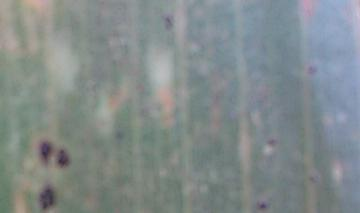tarspot: (57, 146, 71, 169), (41, 140, 53, 166), (40, 188, 53, 208), (163, 12, 174, 32), (114, 128, 125, 142), (307, 64, 317, 78), (267, 137, 277, 148), (256, 202, 267, 210), (309, 175, 317, 184)
